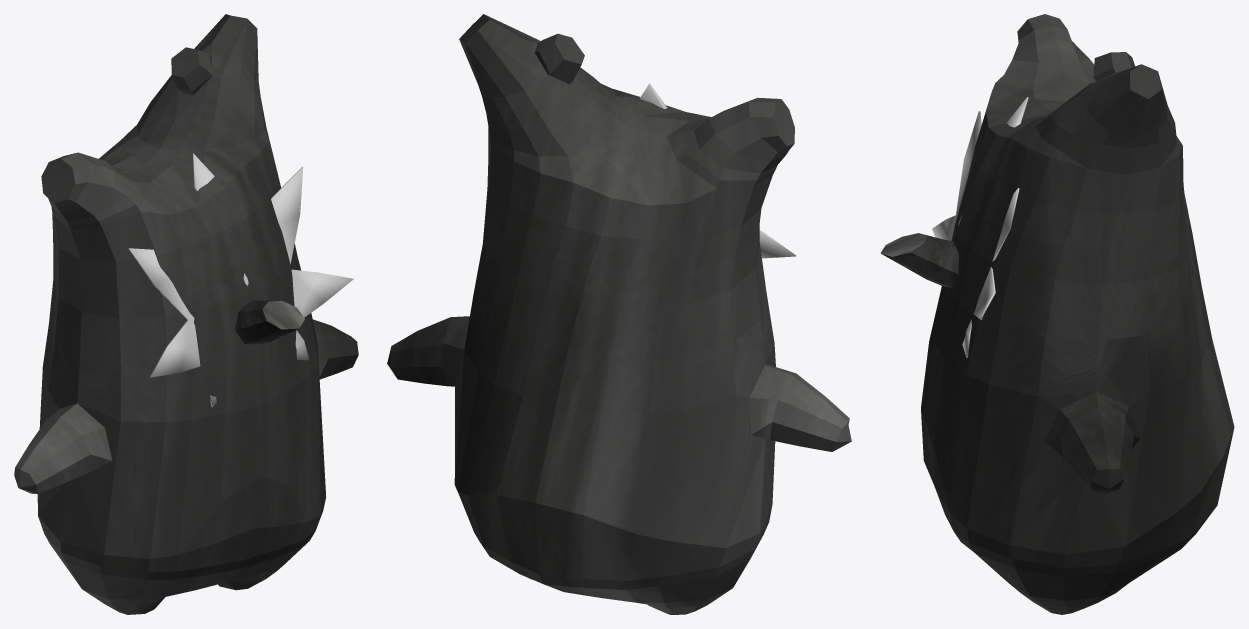
The model's file is frame_0032.obj.
3 views of the same model, side by side, from view 1: azimuth 30°, elevation 25°; view 2: azimuth 150°, elevation 25°; view 3: azimuth 270°, elevation 25° (orthographic). The views are drawn at different scales.
Parts seen in each view (by area): view 1: korok, leaf, nose.003_柱体.011; view 2: korok, leaf; view 3: korok, nose.003_柱体.011, leaf.
Part boxes in pixels (x1=…): korok: x1=14, y1=14, x2=358, y2=614; leaf: x1=128, y1=153, x2=353, y2=407; nose.003_柱体.011: x1=235, y1=300, x2=304, y2=344; korok: x1=387, y1=14, x2=851, y2=614; leaf: x1=639, y1=83, x2=795, y2=258; korok: x1=921, y1=14, x2=1234, y2=614; nose.003_柱体.011: x1=880, y1=233, x2=958, y2=287; leaf: x1=932, y1=97, x2=1028, y2=357.
Size of the model in its own units: 1.71 by 2.3 by 1.31.
